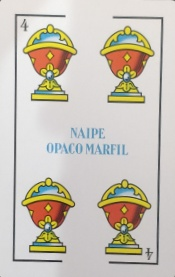4c: (13, 12, 167, 33)
